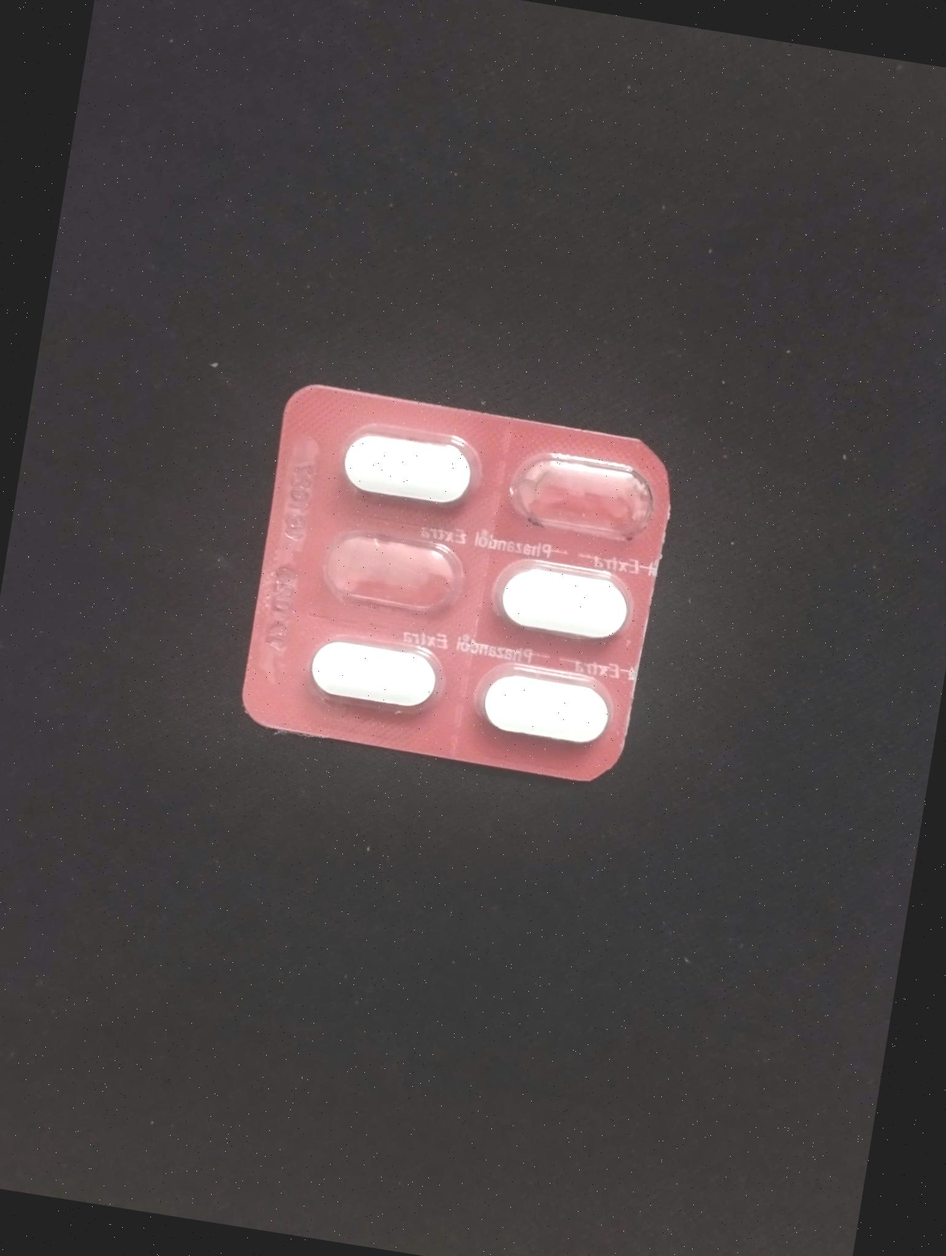Empty: (310, 521, 469, 627), (511, 448, 657, 548)
Full: (332, 422, 482, 524), (491, 559, 642, 653), (305, 624, 448, 719), (472, 665, 617, 754)
